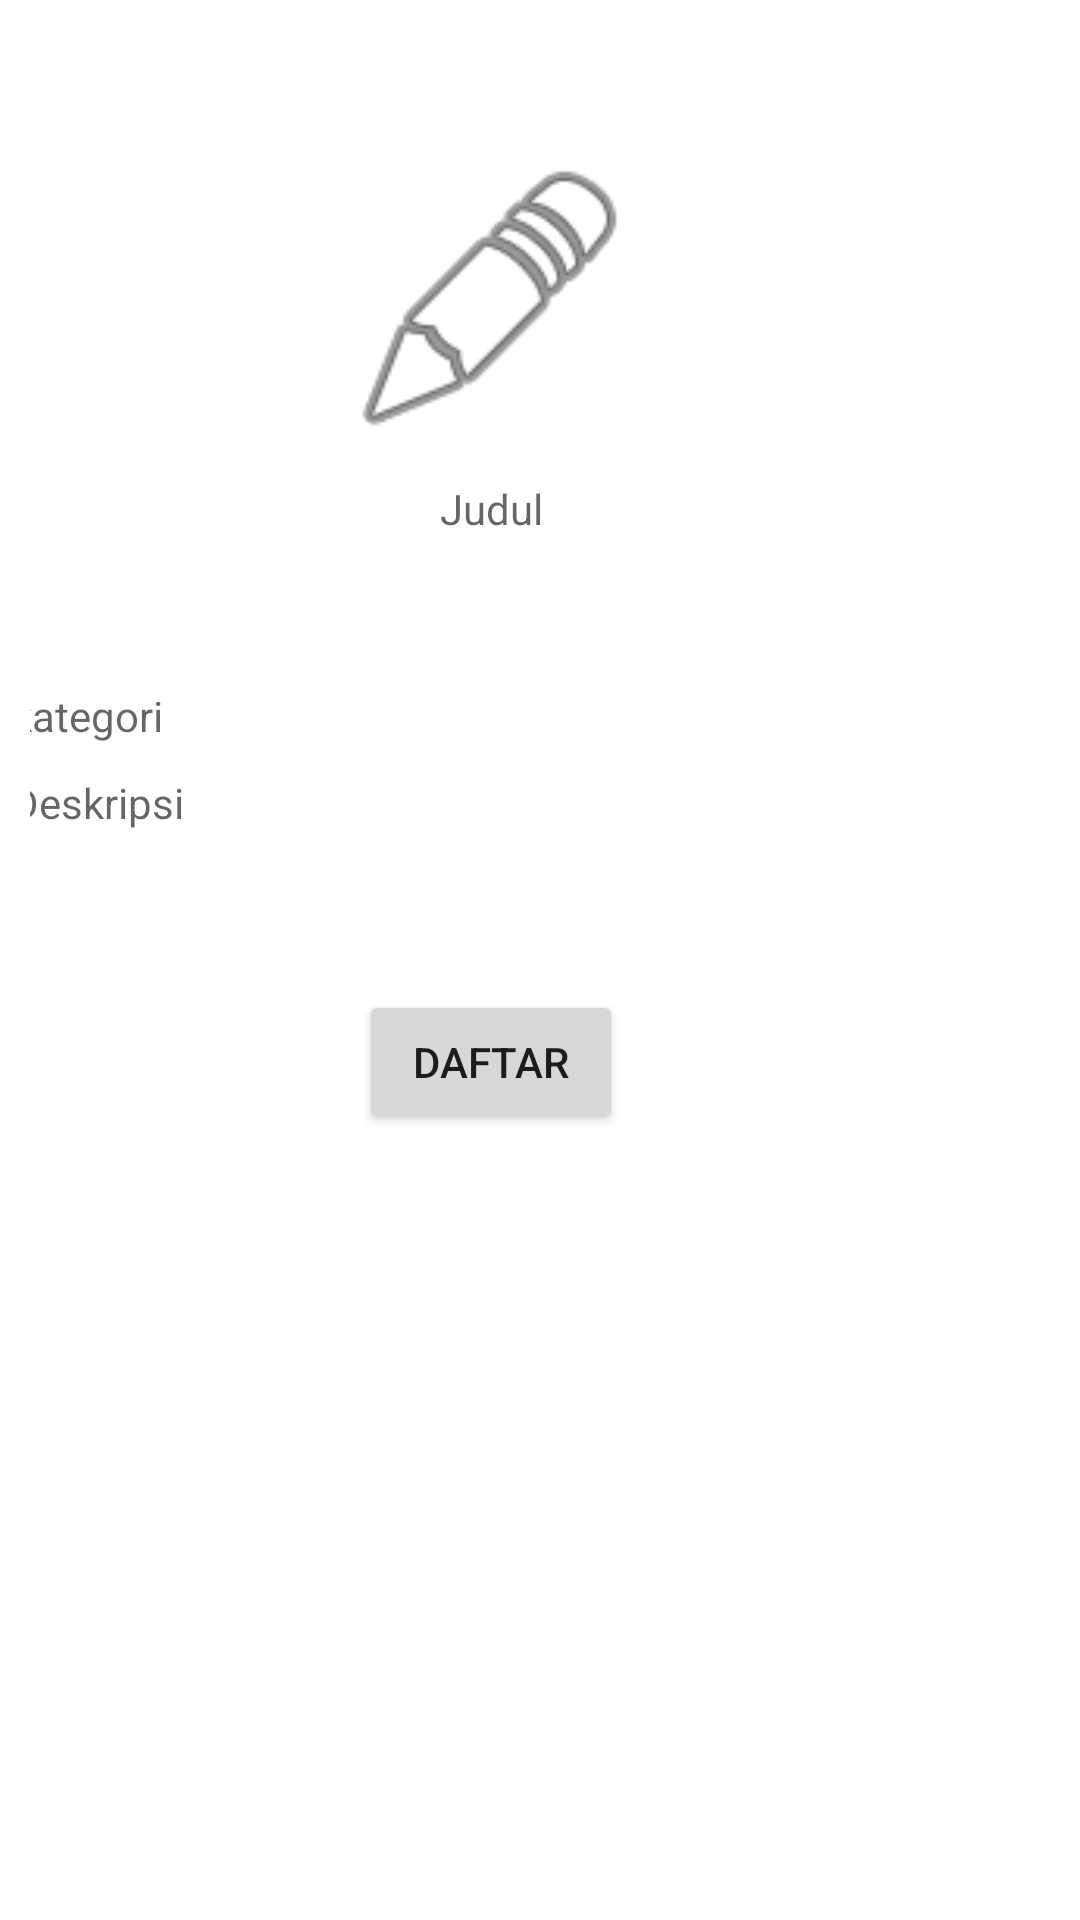

Named icons in this screenshot (1080w x 1920h) and their centers, (x,y):
edit: (490,298)
